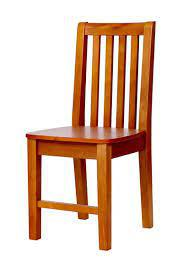chair: (20, 12, 162, 256)
